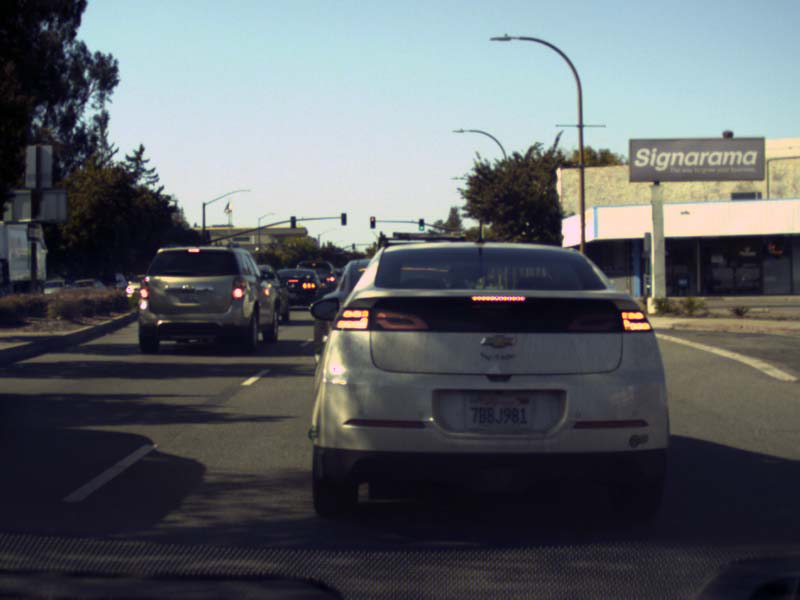Green: (418, 217, 423, 230)
Red: (369, 216, 376, 228)
